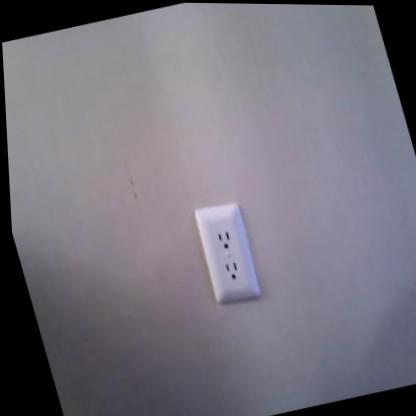OUTLET: (192, 198, 264, 307)
